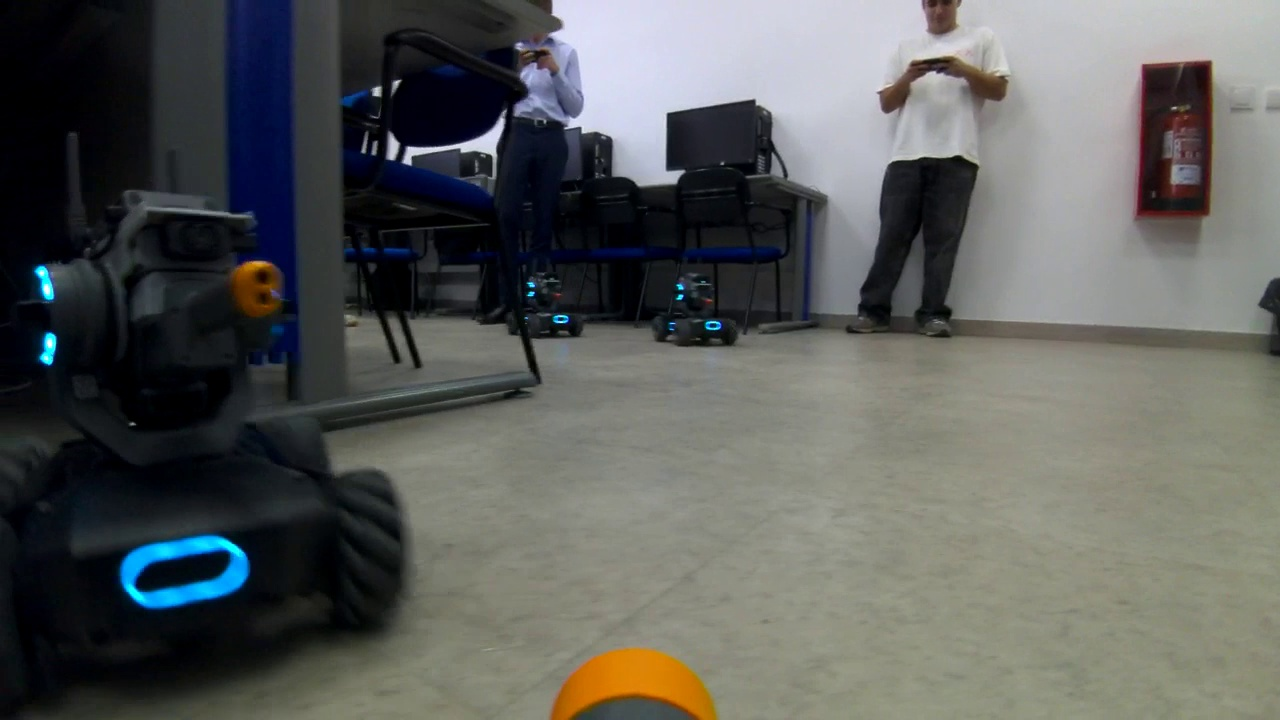robot: (639, 269, 755, 349), (499, 264, 589, 343)
